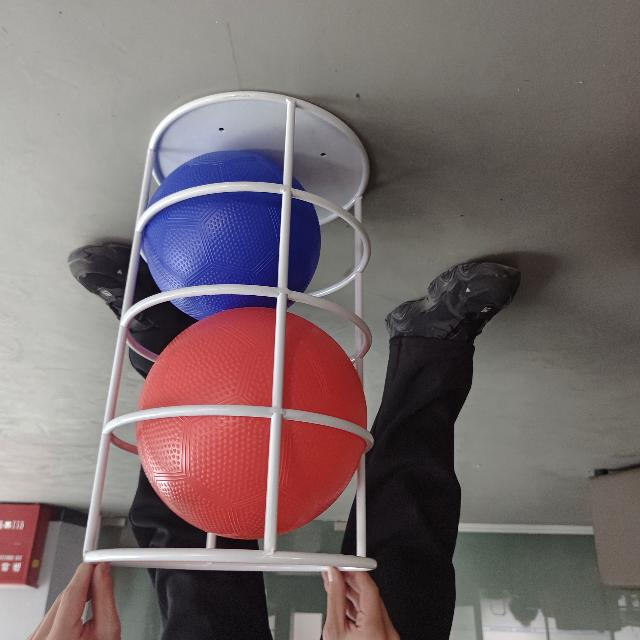B: (141, 146, 329, 312)
R: (83, 297, 374, 541)
S: (75, 77, 381, 578)
